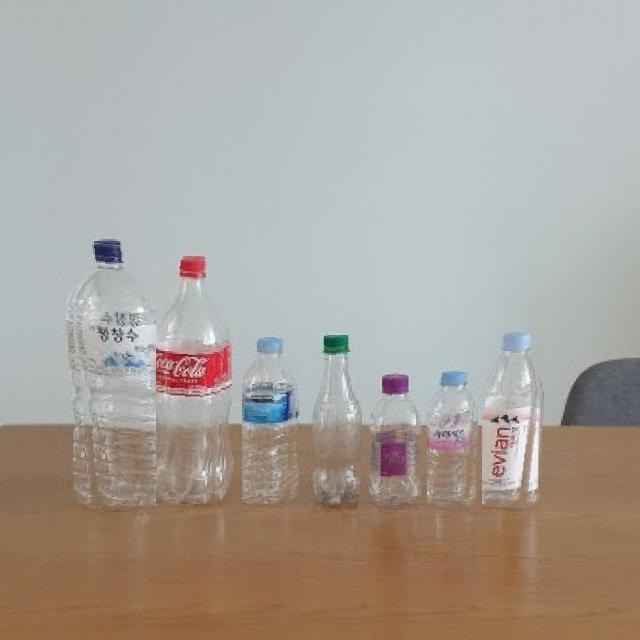plastic bottle: (66, 240, 158, 507), (156, 256, 230, 504), (482, 333, 546, 510), (242, 334, 302, 506), (306, 335, 362, 508), (427, 372, 482, 504), (369, 375, 420, 508)
